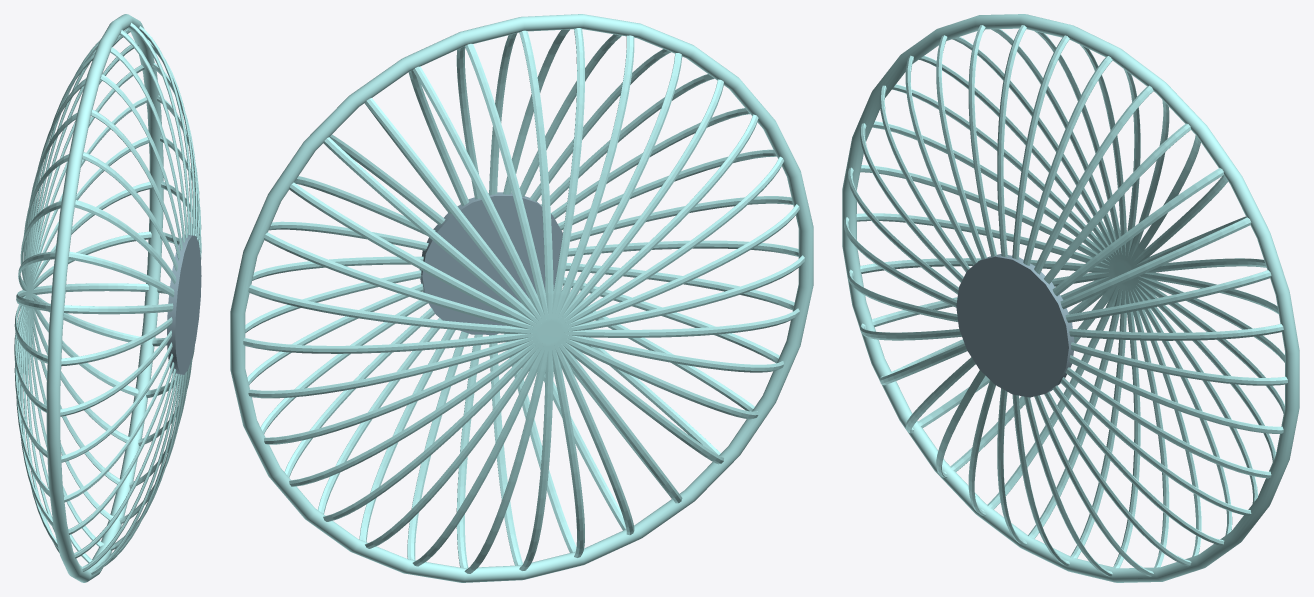
File: hone.obj
The picture shows the model from 3 angles, left to right: view 1: azimuth 30°, elevation 25°; view 2: azimuth 150°, elevation 25°; view 3: azimuth 270°, elevation 25°; orthographic projection. The views are drawn at different scales.
Visible parts, largest first — view 1: all_kaiten_ pTorus1, all_kaiten_ pCylinder2, all_kaiten_ pCube22, all_kaiten_ pCube21, all_kaiten_ pCube23, all_kaiten_ pCube20, pCube8 all_kaiten_, all_kaiten_ pCube19, all_kaiten_ pCube9, all_kaiten_ pCube18, all_kaiten_ pCube11, all_kaiten_ pCube17 (+6 smaller); view 2: all_kaiten_ pTorus1, all_kaiten_ pCylinder2, all_kaiten_ pCube14, all_kaiten_ pCube13, all_kaiten_ pCube16, all_kaiten_ pCube11, all_kaiten_ pCube10, all_kaiten_ pCube12, all_kaiten_ pCube15, pCube8 all_kaiten_, all_kaiten_ pCube9, all_kaiten_ pCube17 (+6 smaller); view 3: all_kaiten_ pTorus1, all_kaiten_ pCylinder2, all_kaiten_ pCube11, all_kaiten_ pCube10, all_kaiten_ pCube12, all_kaiten_ pCube9, all_kaiten_ pCube13, all_kaiten_ pCube14, pCube8 all_kaiten_, all_kaiten_ pCube15, all_kaiten_ pCube23, all_kaiten_ pCube16 (+6 smaller).
Boxes of the visible parts, left/top/right/bottom form: all_kaiten_ pTorus1: left=46, top=14, right=163, bottom=582; all_kaiten_ pCylinder2: left=167, top=235, right=201, bottom=374; all_kaiten_ pCube22: left=25, top=22, right=190, bottom=574; all_kaiten_ pCube21: left=23, top=26, right=192, bottom=571; all_kaiten_ pCube23: left=28, top=30, right=187, bottom=565; all_kaiten_ pCube20: left=20, top=40, right=195, bottom=558; pCube8 all_kaiten_: left=29, top=47, right=185, bottom=550; all_kaiten_ pCube19: left=18, top=63, right=197, bottom=534; all_kaiten_ pCube9: left=28, top=74, right=187, bottom=523; all_kaiten_ pCube18: left=16, top=95, right=199, bottom=502; all_kaiten_ pCube11: left=23, top=152, right=192, bottom=445; all_kaiten_ pCube17: left=14, top=135, right=201, bottom=462; all_kaiten_ pTorus1: left=230, top=14, right=813, bottom=582; all_kaiten_ pCylinder2: left=419, top=192, right=562, bottom=334; all_kaiten_ pCube14: left=260, top=149, right=783, bottom=444; all_kaiten_ pCube13: left=284, top=108, right=758, bottom=486; all_kaiten_ pCube16: left=243, top=240, right=804, bottom=353; all_kaiten_ pCube11: left=359, top=49, right=682, bottom=548; all_kaiten_ pCube10: left=407, top=34, right=634, bottom=566; all_kaiten_ pCube12: left=318, top=74, right=723, bottom=521; all_kaiten_ pCube15: left=247, top=196, right=799, bottom=398; pCube8 all_kaiten_: left=489, top=30, right=553, bottom=570; all_kaiten_ pCube9: left=456, top=28, right=584, bottom=573; all_kaiten_ pCube17: left=248, top=256, right=799, bottom=337; all_kaiten_ pTorus1: left=842, top=14, right=1299, bottom=582; all_kaiten_ pCylinder2: left=956, top=254, right=1074, bottom=397; all_kaiten_ pCube11: left=936, top=35, right=1201, bottom=566; all_kaiten_ pCube10: left=968, top=25, right=1169, bottom=576; all_kaiten_ pCube12: left=905, top=55, right=1232, bottom=545; all_kaiten_ pCube9: left=997, top=25, right=1140, bottom=576; all_kaiten_ pCube13: left=879, top=84, right=1257, bottom=515; all_kaiten_ pCube14: left=860, top=121, right=1276, bottom=478; pCube8 all_kaiten_: left=1012, top=35, right=1126, bottom=566; all_kaiten_ pCube15: left=848, top=165, right=1284, bottom=433; all_kaiten_ pCube23: left=997, top=56, right=1140, bottom=545; all_kaiten_ pCube16: left=844, top=213, right=1287, bottom=385.
Bounding box in the file's own units: 9.5 × 14.4 × 10.94.
